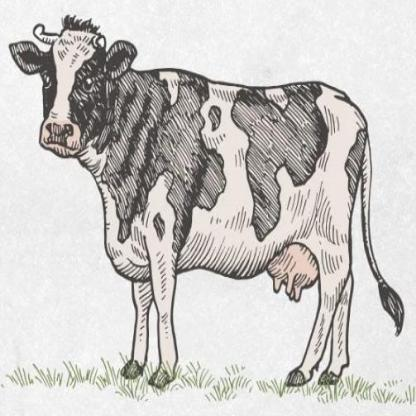cow: (11, 30, 367, 388)
